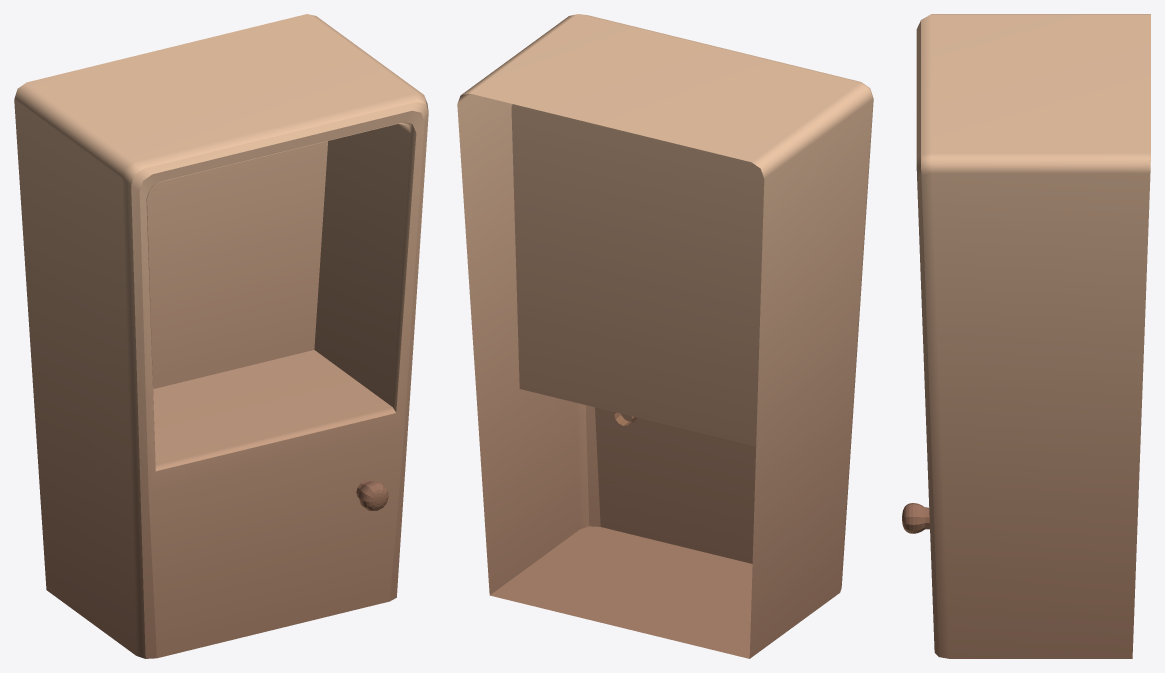
File: Cupboard_2.fbx
3 views of the same model, side by side, from view 1: azimuth 30°, elevation 25°; view 2: azimuth 150°, elevation 25°; view 3: azimuth 270°, elevation 25° (orthographic).
Visible parts, largest first — view 1: Cupboard_2; view 2: Cupboard_2; view 3: Cupboard_2.
Boxes of the visible parts, x1,y1,x2,y2 form: Cupboard_2: (14,14,428,658); Cupboard_2: (457,14,873,658); Cupboard_2: (902,14,1150,658).
Size of the model in its own units: 49.02 by 77.19 by 34.08.
